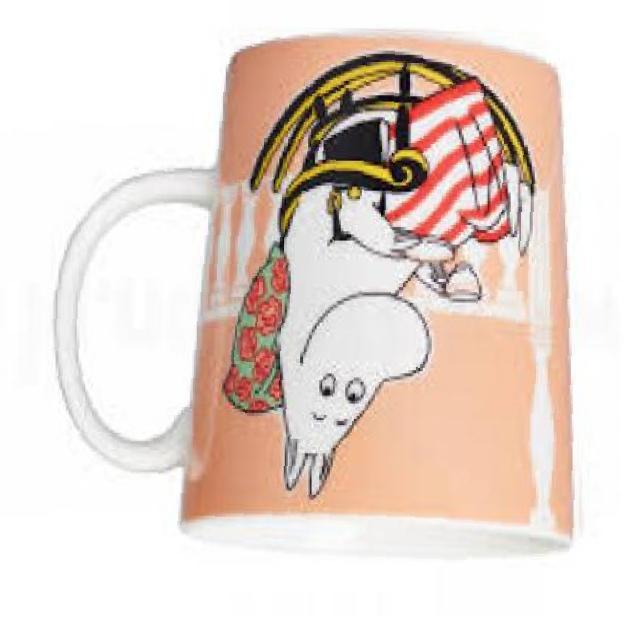cup: (38, 19, 600, 570)
